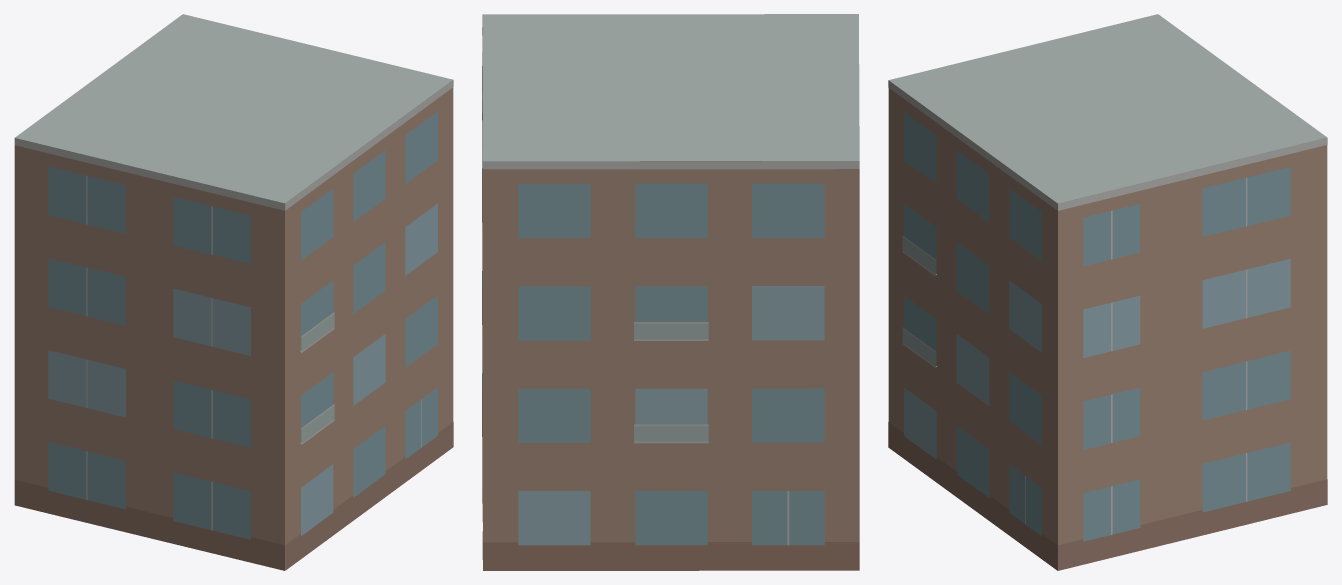
File: residential-2df36f70-bc38-4508-b2a1-0288a5098000.glb
The picture shows the model from 3 angles, left to right: view 1: azimuth 30°, elevation 25°; view 2: azimuth 150°, elevation 25°; view 3: azimuth 270°, elevation 25°; orthographic projection. The views are drawn at different scales.
Parts seen in each view (by area): view 1: residential-2df36f70-bc38-4508-b2a1-0288a5098000.tmp; view 2: residential-2df36f70-bc38-4508-b2a1-0288a5098000.tmp; view 3: residential-2df36f70-bc38-4508-b2a1-0288a5098000.tmp.
Part boxes in pixels (x1=…): residential-2df36f70-bc38-4508-b2a1-0288a5098000.tmp: x1=14, y1=14, x2=453, y2=570; residential-2df36f70-bc38-4508-b2a1-0288a5098000.tmp: x1=482, y1=14, x2=859, y2=570; residential-2df36f70-bc38-4508-b2a1-0288a5098000.tmp: x1=888, y1=14, x2=1327, y2=570.
Size of the model in its own units: 13.51 by 12.2 by 13.22.
